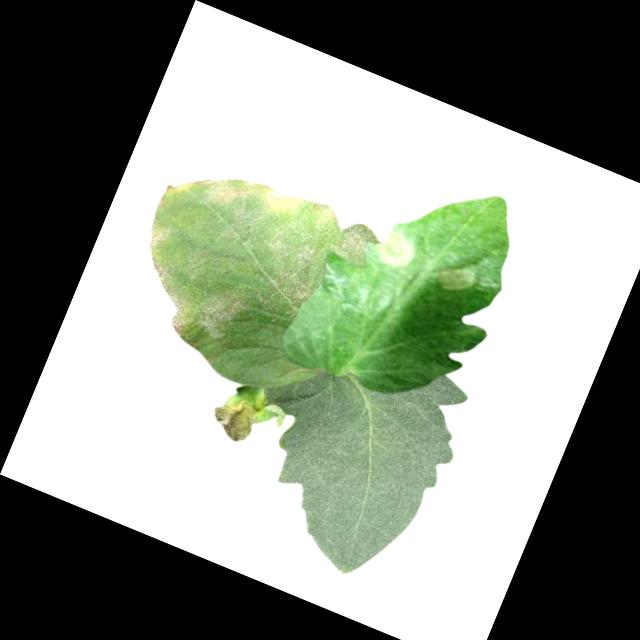Late_blight: (113, 142, 386, 393), (204, 391, 262, 449), (371, 225, 421, 274), (430, 254, 479, 299)
healthy: (213, 316, 481, 598)
